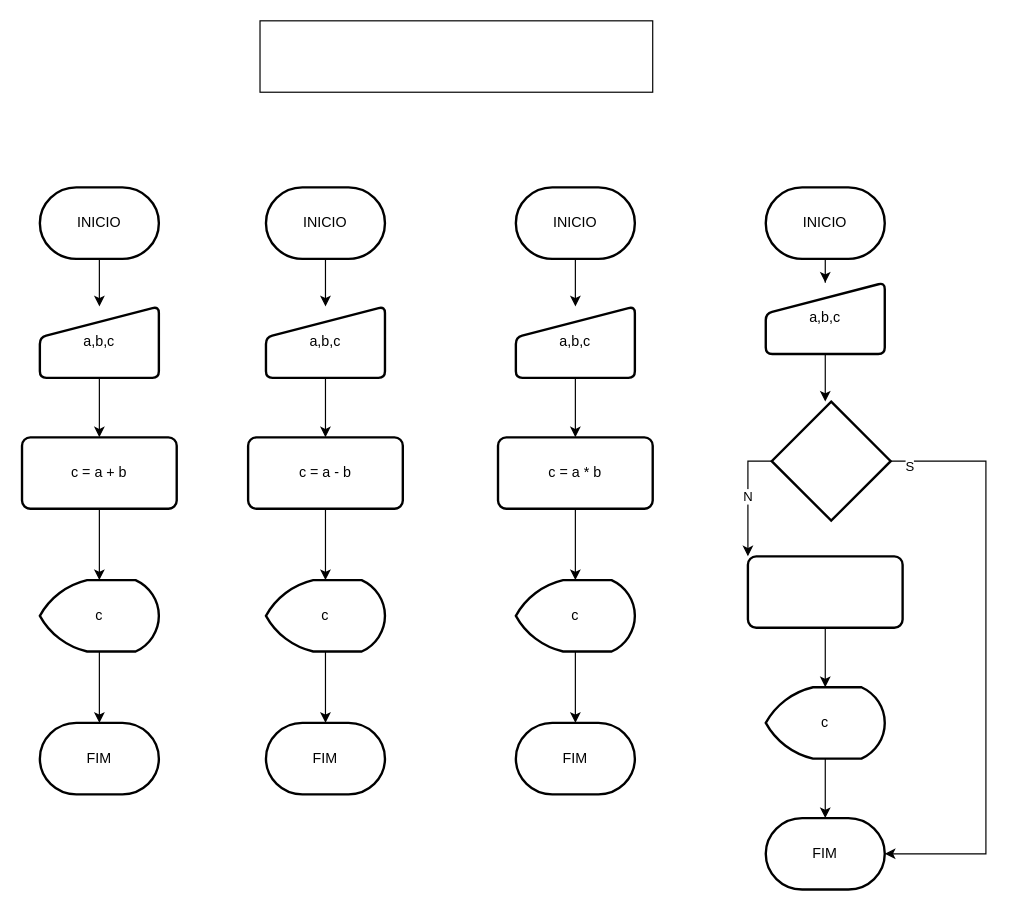
Image size: 1016x912. Some labels were removed from this diagram. The centre of each missing label's shape, as x and y in pixels:
"b == 0" belongs at point 830,460.
"c = a / b" belongs at point 824,591.
"Fluxograma Somar, subtrair, multiplicar e dividir dois números." belongs at point 456,56.
